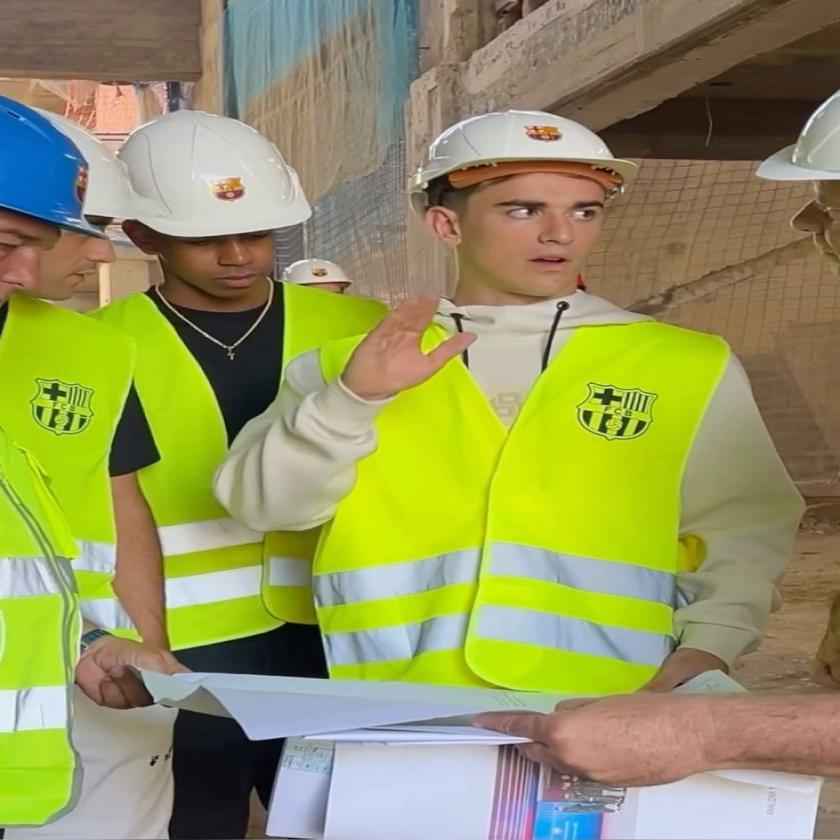Con_casco: (400, 103, 648, 327), (122, 111, 318, 315)
